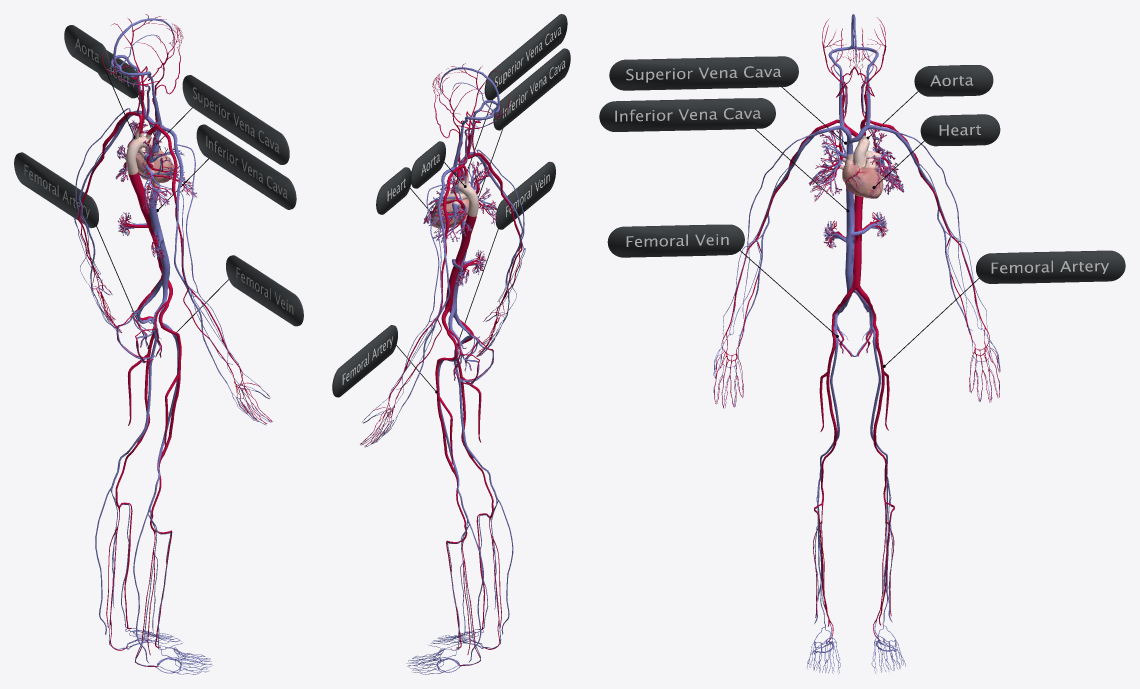
Rendered from circulatory_system_2.glb.
3 renders of one model, left to right at view 1: azimuth 30°, elevation 25°; view 2: azimuth 150°, elevation 25°; view 3: azimuth 270°, elevation 25°, orthographic. The views are drawn at different scales.
Parts seen in each view (by area): view 1: Object_95, Object_9, Object_96, Object_8, Object_7; view 2: Object_95, Object_9, Object_96, Object_8, Object_7; view 3: Object_9, Object_95, Object_96, Object_8, Object_7.
Part boxes in pixels (<box>): Object_95: <box>73,14,272,674</box>; Object_9: <box>14,25,303,326</box>; Object_96: <box>82,18,216,672</box>; Object_8: <box>24,39,293,314</box>; Object_7: <box>96,72,228,348</box>; Object_95: <box>360,63,525,674</box>; Object_9: <box>332,14,570,397</box>; Object_96: <box>417,66,517,669</box>; Object_8: <box>342,27,565,384</box>; Object_7: <box>396,100,503,393</box>; Object_9: <box>599,56,1125,283</box>; Object_95: <box>713,14,1000,673</box>; Object_96: <box>743,18,965,649</box>; Object_8: <box>615,66,1108,273</box>; Object_7: <box>740,87,978,367</box>.
Bounding box in the file's own units: 0.0996 × 0.6369 × 0.4807.
Materials: 4 (1 with a texture image).
